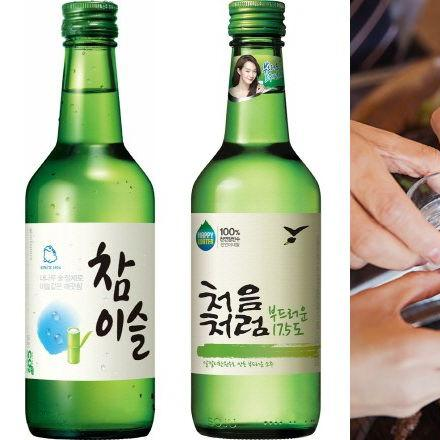soju: (188, 1, 324, 437), (21, 2, 157, 437)
